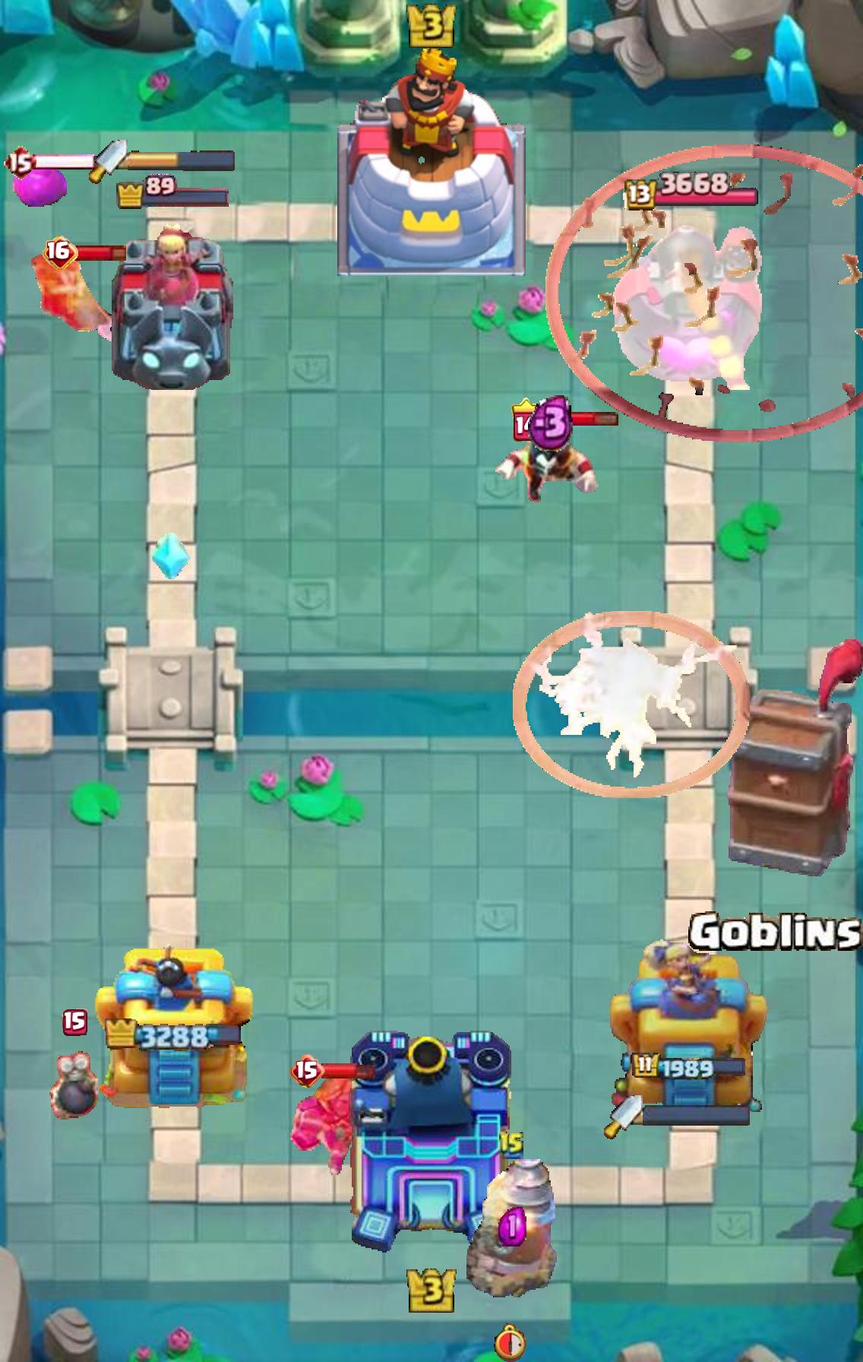bar: (33, 152, 116, 172), (539, 411, 619, 428), (321, 1061, 376, 1081), (74, 243, 127, 263)
bar-level: (512, 398, 543, 442), (43, 236, 79, 271), (289, 1054, 325, 1088), (3, 144, 36, 180), (62, 1009, 87, 1036)
